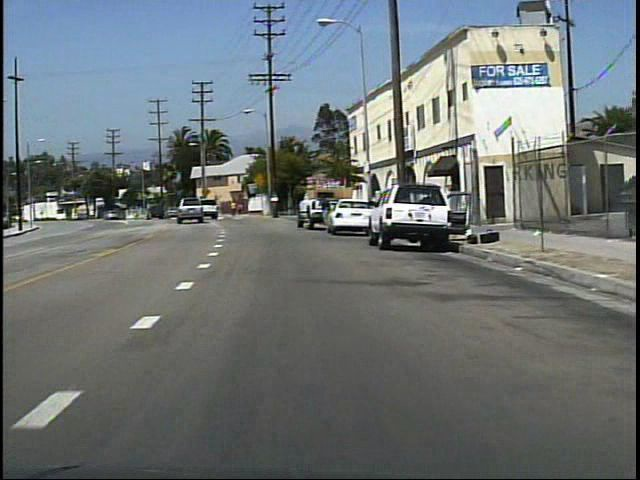person: (317, 191, 337, 234), (230, 198, 240, 219), (237, 200, 246, 217)
